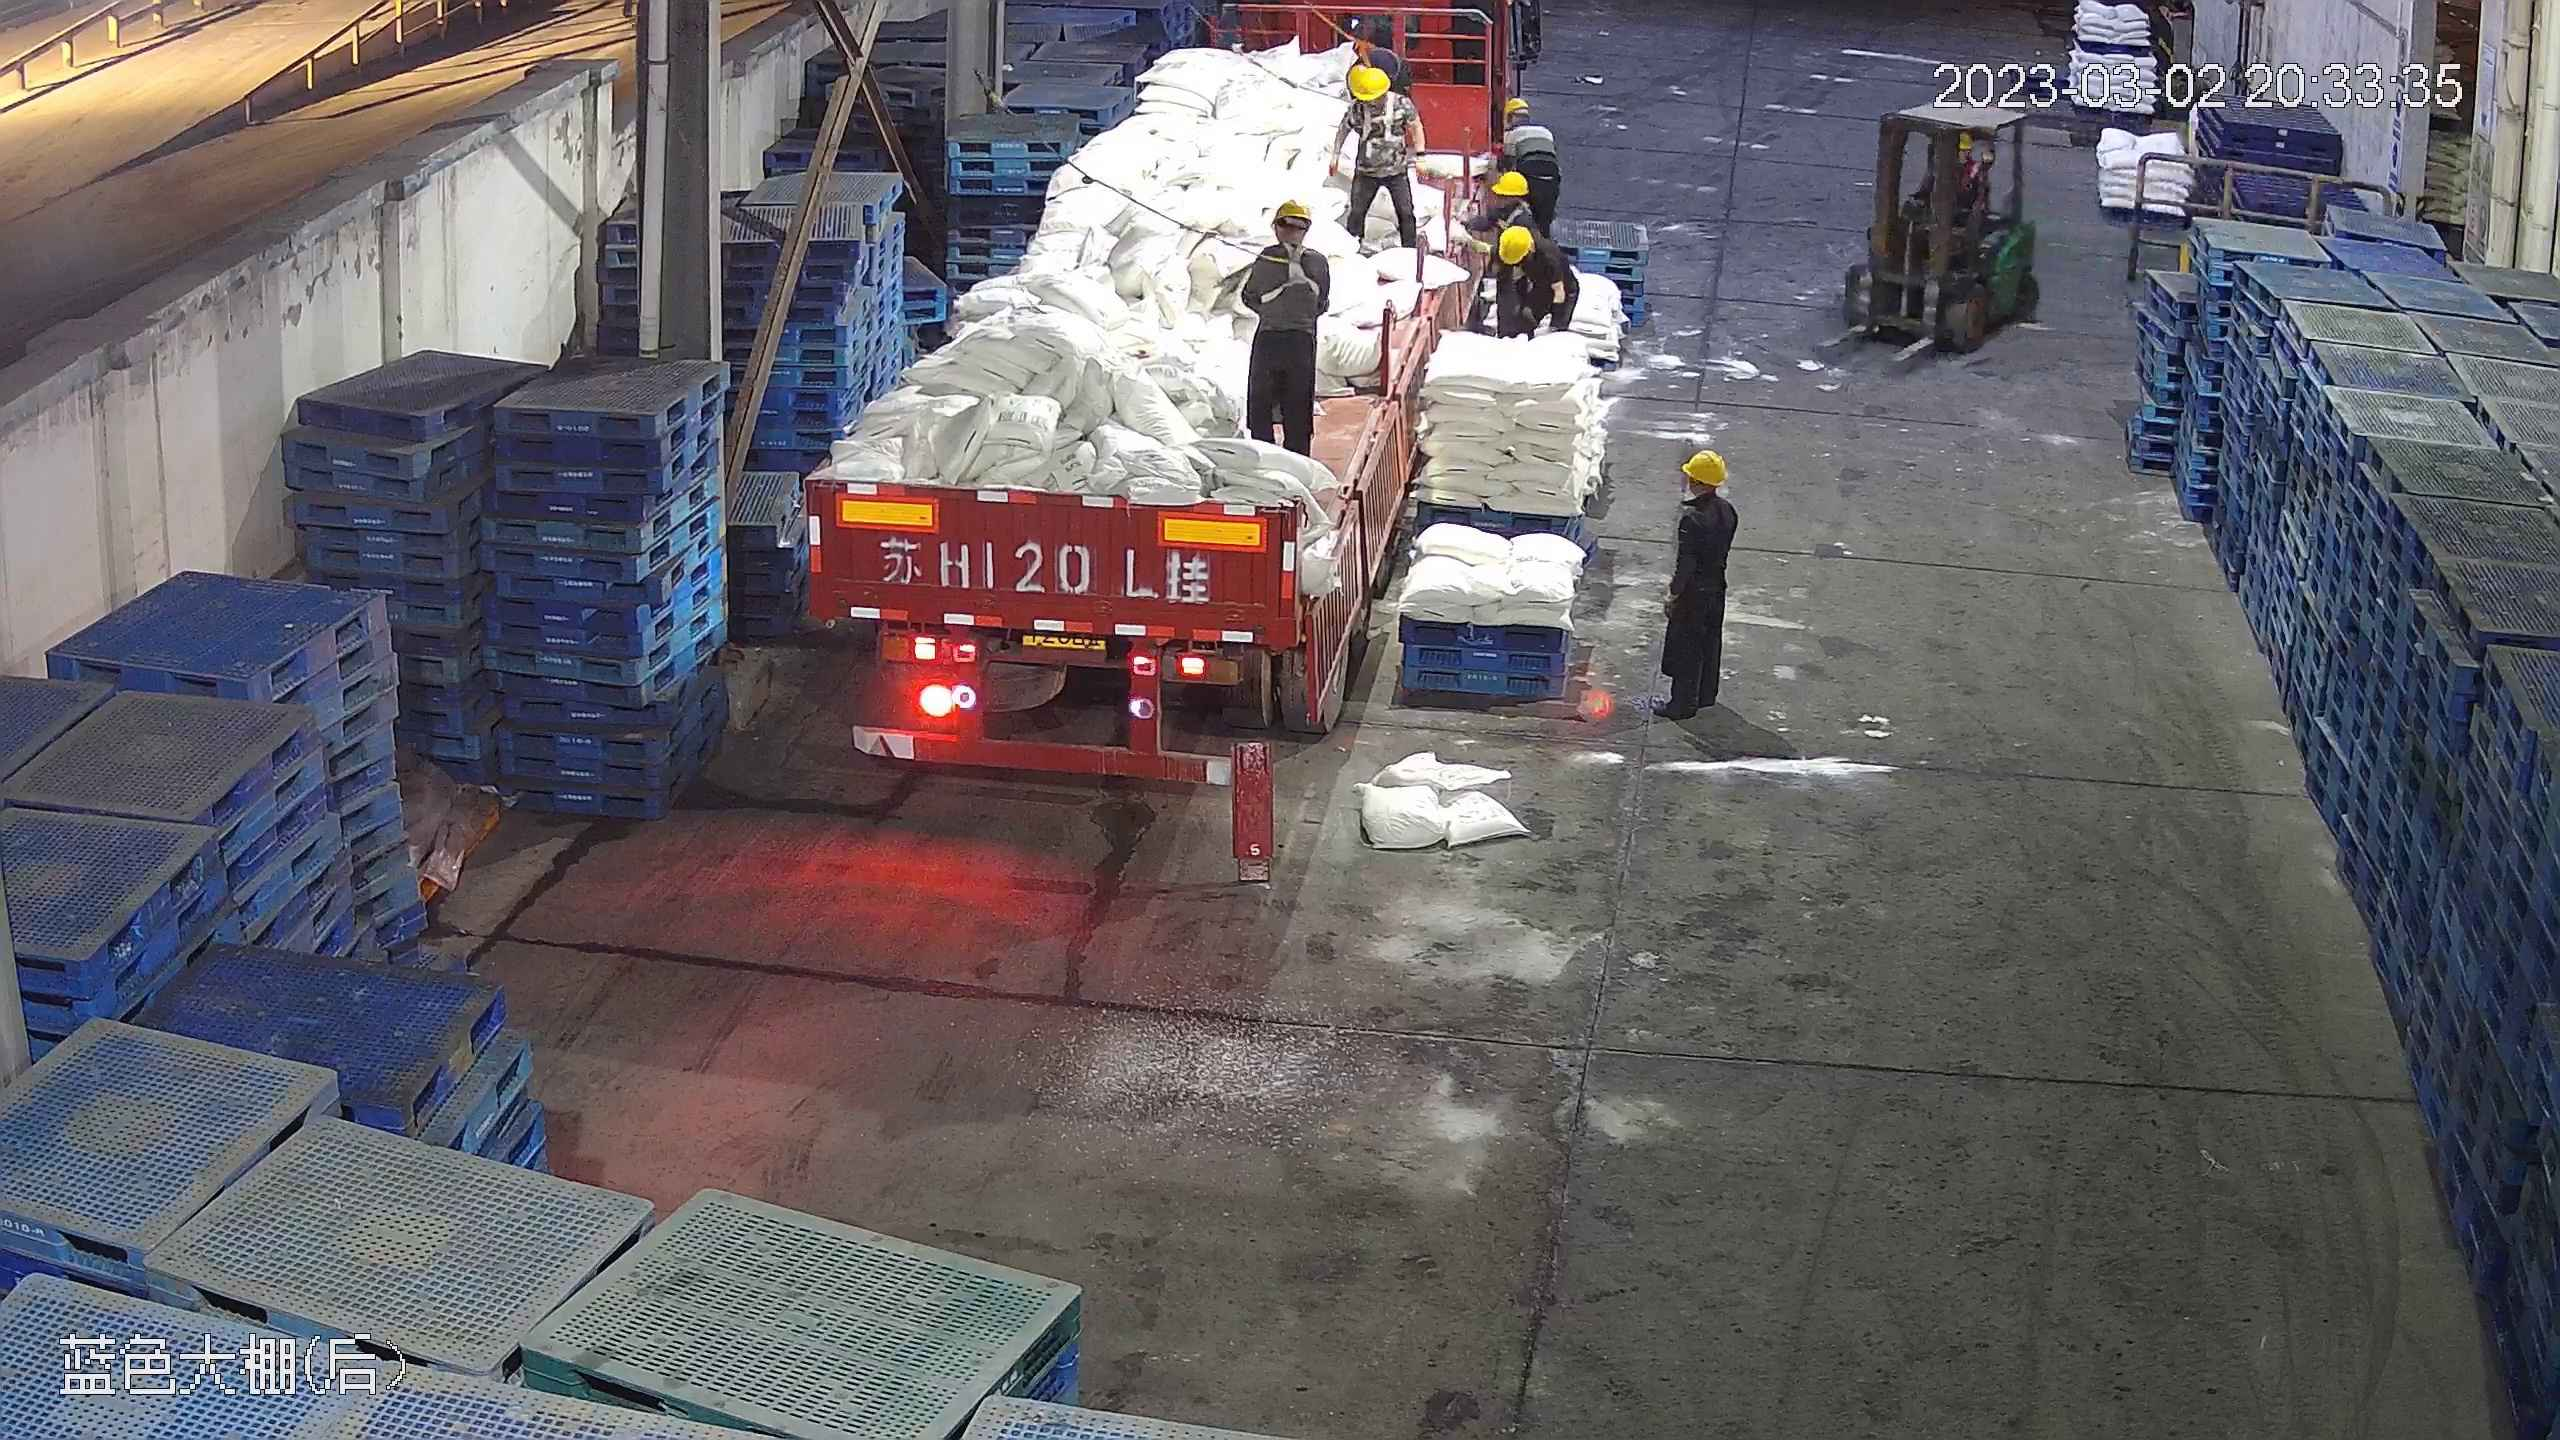belt: (1255, 200, 1327, 284), (1259, 236, 1322, 296), (1351, 100, 1408, 157), (1343, 27, 1380, 67), (1494, 203, 1527, 229)
head: (1255, 197, 1328, 279), (1673, 448, 1738, 541), (1339, 60, 1413, 133), (1492, 216, 1563, 293), (1494, 94, 1554, 149)
helmet: (1680, 448, 1728, 485), (1493, 221, 1533, 263), (1347, 61, 1390, 101), (1488, 167, 1528, 198), (1272, 196, 1313, 224), (1499, 95, 1525, 119)
people: (1219, 195, 1330, 453), (1655, 450, 1739, 717), (1333, 60, 1427, 255), (1501, 96, 1563, 230)
truck: (807, 14, 1483, 776)
